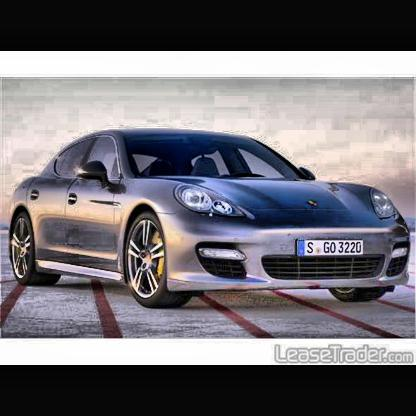Porsche Panamera Sedan 2012: (10, 128, 413, 310)
